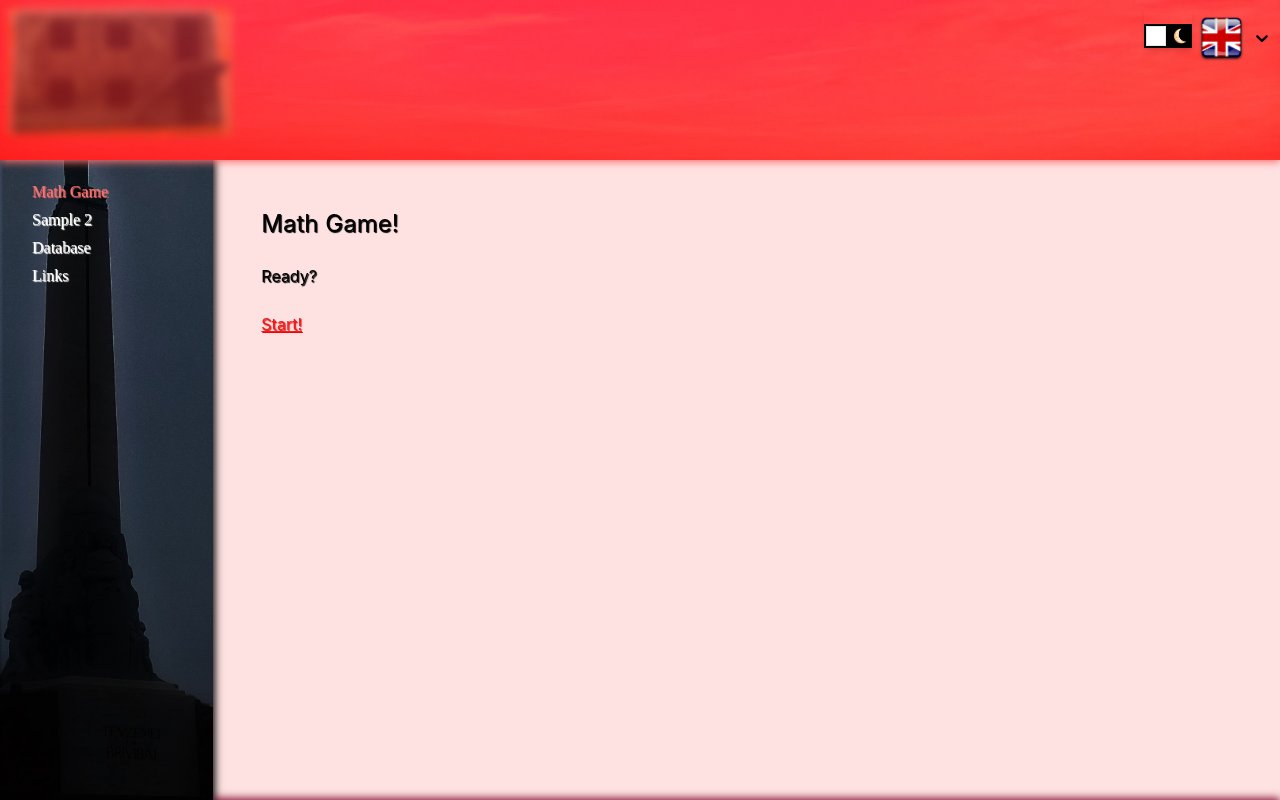
MathGame › Starting › should render the Start!-button and start game after clicking it
Expected: the heading "Math Game!" is shown, [261,209,399,238]
Expected: the text "Ready?" is shown, [261,266,317,286]
Click the button "Start!" at coordinates (282, 324), box [261,312,302,336]
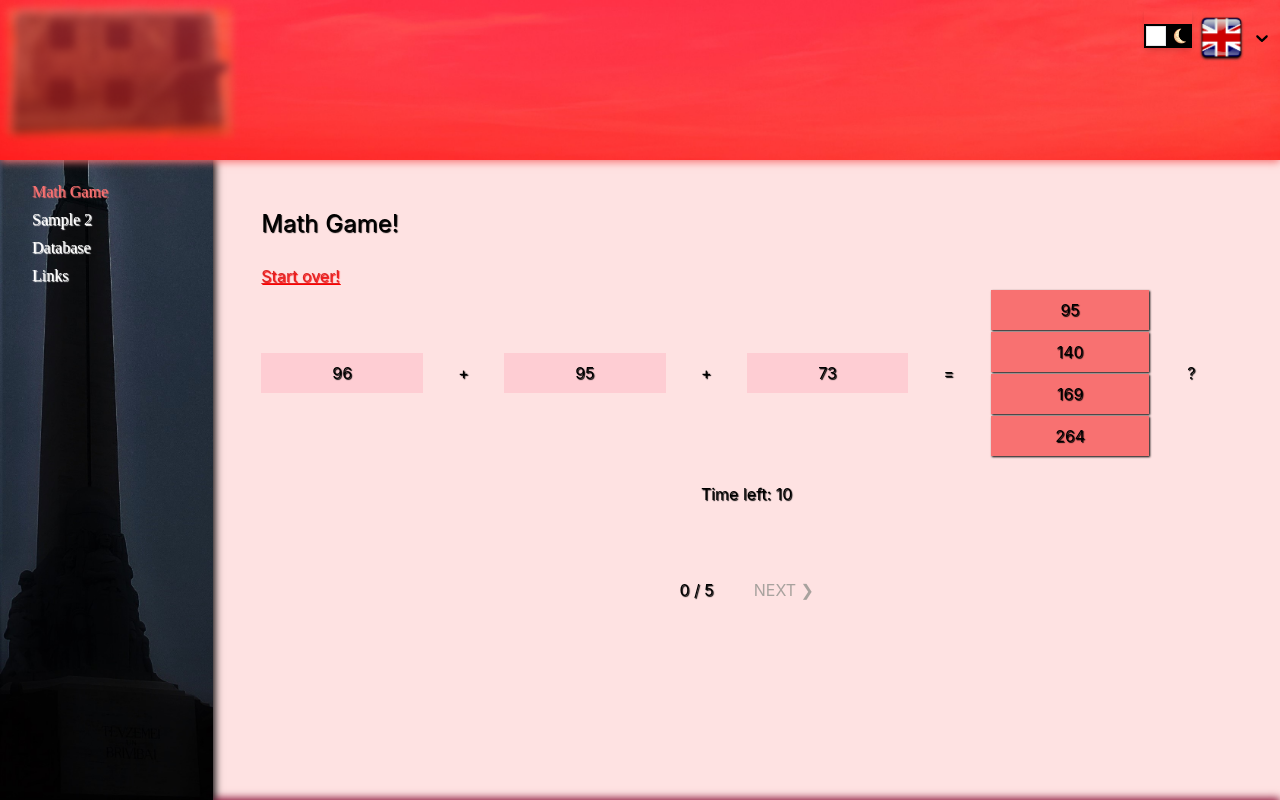
Expected: the heading "Math Game!" is shown, [261,209,399,238]
Now the button "Start!" is gone
Now the button "Start over!" is shown, box [261,264,340,288]
